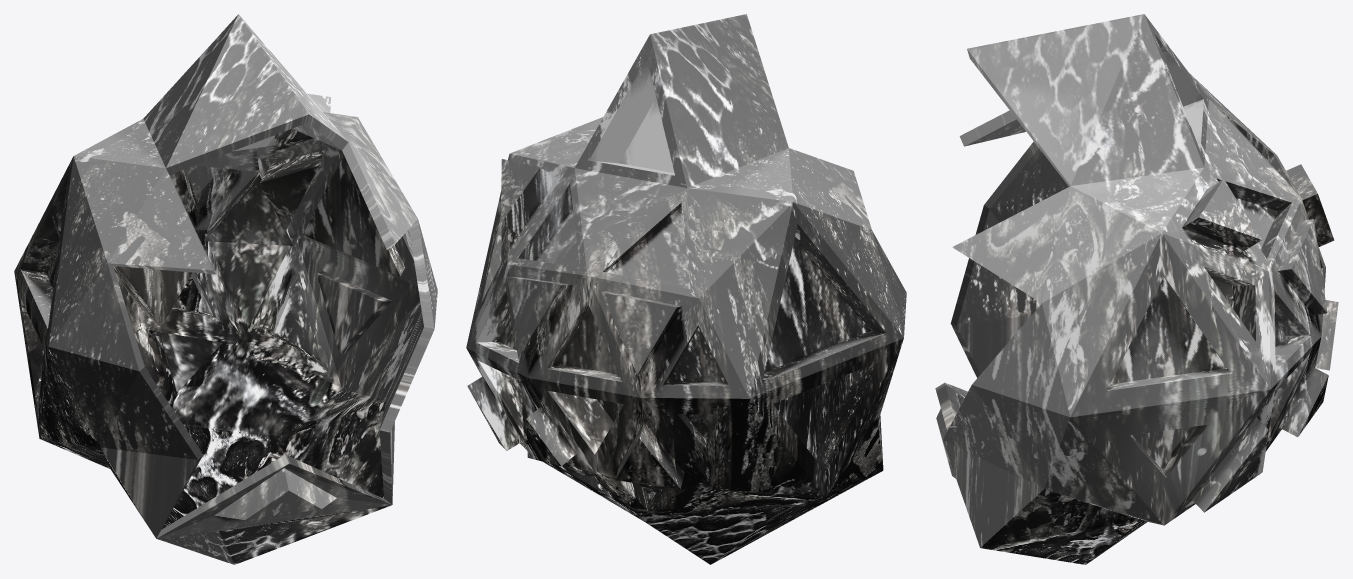
Rendered from shell.obj.
3 renders of one model, left to right at view 1: azimuth 30°, elevation 25°; view 2: azimuth 150°, elevation 25°; view 3: azimuth 270°, elevation 25°, orthographic. The views are drawn at different scales.
Visible parts, largest first — view 1: Icosphere; view 2: Icosphere; view 3: Icosphere.
Boxes of the visible parts, bbox=[...] form: Icosphere: bbox=[14, 14, 437, 564]; Icosphere: bbox=[466, 14, 906, 564]; Icosphere: bbox=[935, 14, 1338, 564].
Bounding box in the file's own units: 14.18 × 18.56 × 11.95.
Materials: 1 (1 with a texture image).
